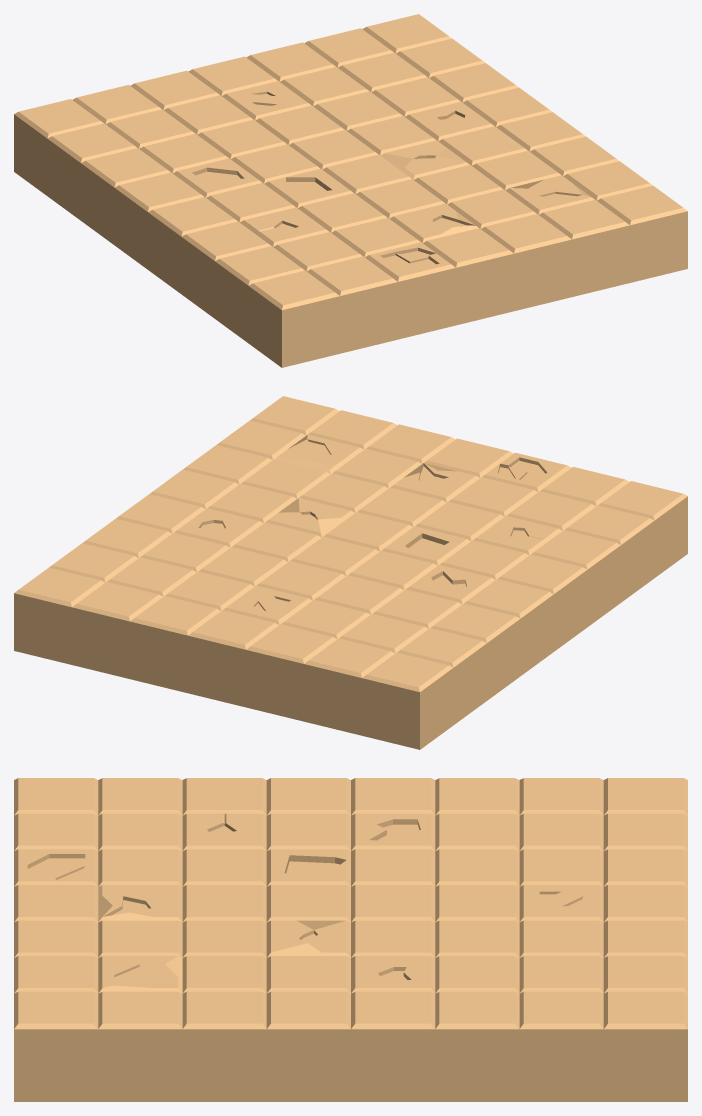
Rendered from 7x8 Floor.fbx.
3 views of the same model, one above another, from view 1: azimuth 30°, elevation 25°; view 2: azimuth 150°, elevation 25°; view 3: azimuth 270°, elevation 25° (orthographic). The views are drawn at different scales.
Visible parts, largest first — view 1: Cube; view 2: Cube; view 3: Cube.
Part boxes in pixels (x1,y1,x2,y2): Cube: (14, 14, 687, 367); Cube: (14, 396, 687, 749); Cube: (14, 778, 687, 1101).
Bounding box in the file's own units: 700 × 100 × 800.
